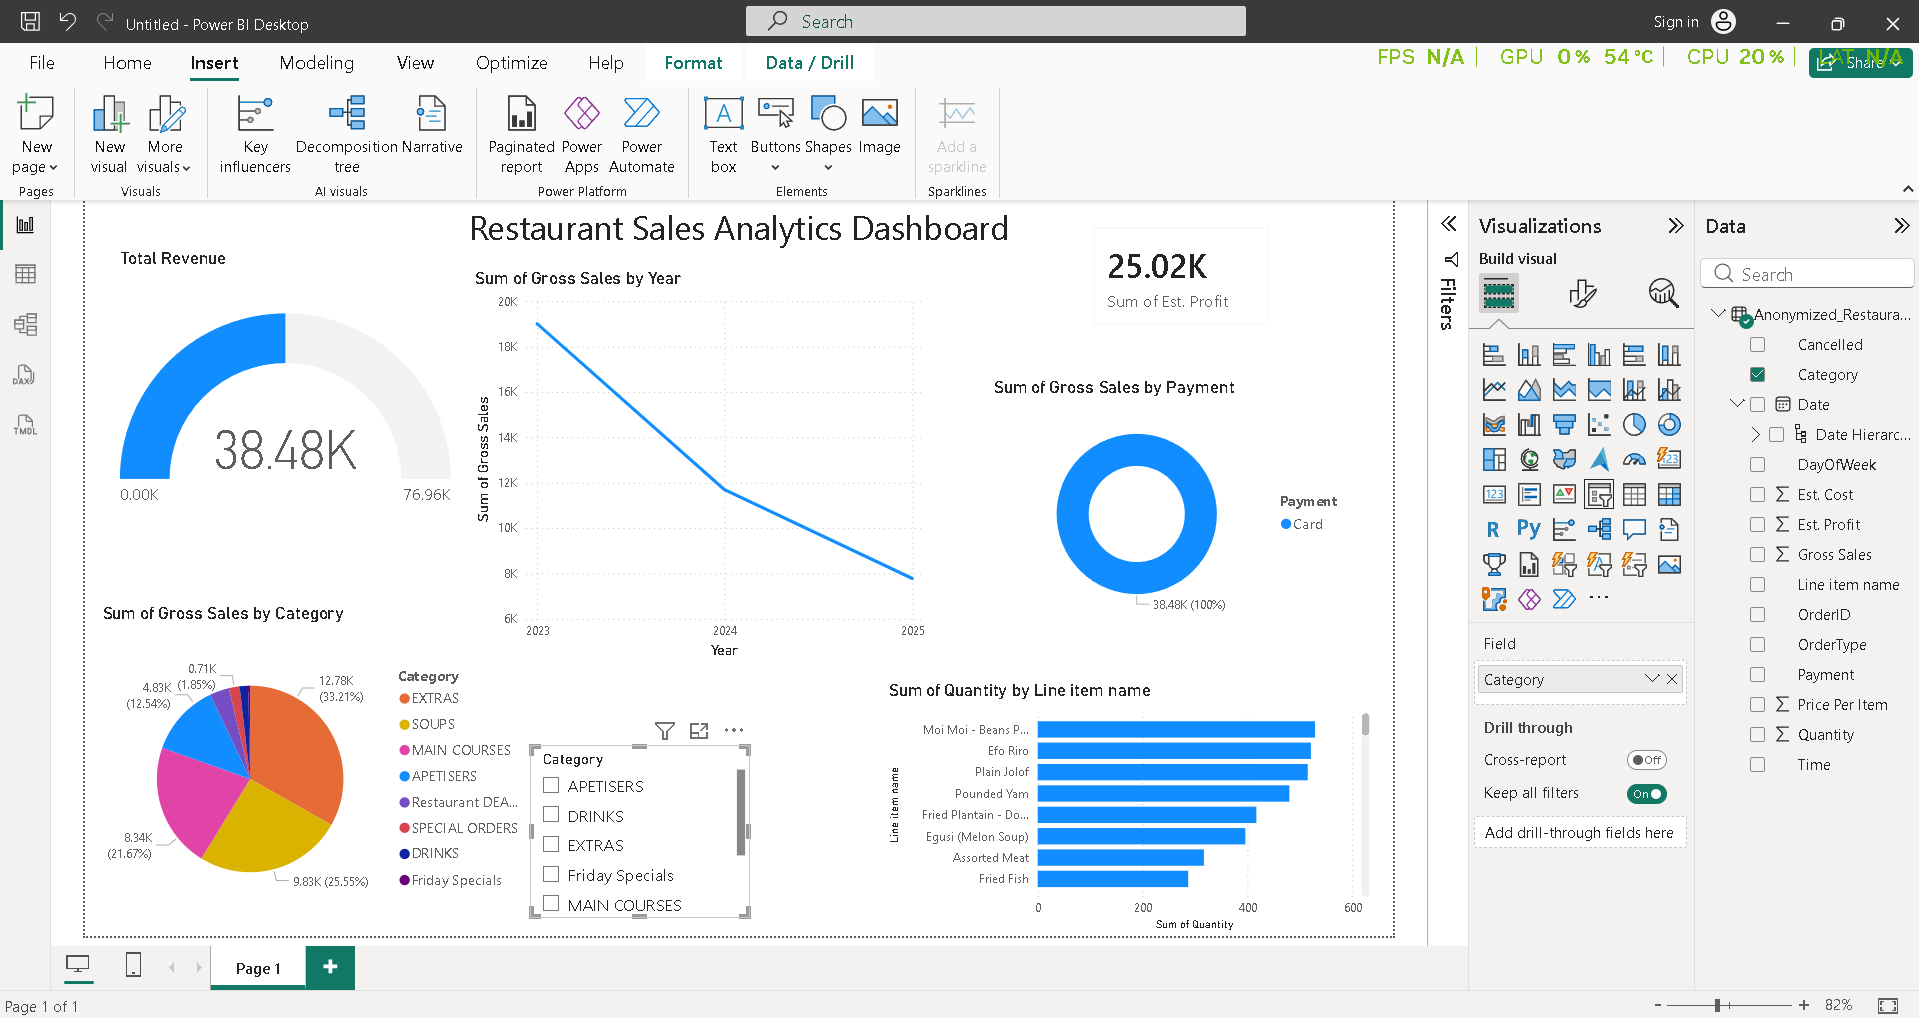

Layout of this report page (visuals, bound fields, positions):
{"tool":"powerbi","page":{"name":"Page 1","canvas":[1280,720],"ordinal":0},"visuals":[{"type":"textbox","box":[363.6,0,553,65.9],"z":0},{"type":"gauge","fields":{"Y":["Sum(Anonymized_Restaurant_Sales_Data.Gross Sales)"]},"box":[29.3,46.5,333.8,304.5],"z":1000},{"type":"cardVisual","fields":{"Data":["Sum(Anonymized_Restaurant_Sales_Data.Est. Profit)"]},"box":[969.7,9.8,206.7,129.6],"z":2000},{"type":"pieChart","fields":{"Category":["Anonymized_Restaurant_Sales_Data.Category"],"Y":["Sum(Anonymized_Restaurant_Sales_Data.Gross Sales)"]},"box":[12.2,393.8,423.1,326.5],"z":3000},{"type":"clusteredBarChart","fields":{"Category":["Anonymized_Restaurant_Sales_Data.Line item name"],"Y":["Sum(Anonymized_Restaurant_Sales_Data.Quantity)"]},"box":[781.4,469.6,480.6,250.7],"z":4000},{"type":"donutChart","fields":{"Category":["Anonymized_Restaurant_Sales_Data.Payment"],"Y":["Sum(Anonymized_Restaurant_Sales_Data.Gross Sales)"]},"box":[884.1,172.4,362,250.7],"z":5000},{"type":"lineChart","fields":{"Category":["Anonymized_Restaurant_Sales_Data.Date.Variation.Date Hierarchy.Year","Anonymized_Restaurant_Sales_Data.Date.Variation.Date Hierarchy.Month"],"Y":["Sum(Anonymized_Restaurant_Sales_Data.Gross Sales)"]},"box":[376.6,66,450,387.6],"z":6000},{"type":"slicer","fields":{"Values":["Anonymized_Restaurant_Sales_Data.Category"]},"box":[435.3,533.2,215.2,168.8],"z":7000}]}

Visuals, with their boxes on the page's 1280x720 design canvas (x1, y1, x2, y2). These are canvas units, not pixel positions in the 1919x1018 screenshot, which may show the page scaled, cropped or inside an application window:
textbox: bbox=[364, 0, 917, 66]
gauge - Sum(Anonymized_Restaurant_Sales_Data.Gross Sales): bbox=[29, 46, 363, 351]
cardVisual - Sum(Anonymized_Restaurant_Sales_Data.Est. Profit): bbox=[970, 10, 1176, 139]
pieChart - Anonymized_Restaurant_Sales_Data.Category x Sum(Anonymized_Restaurant_Sales_Data.Gross Sales): bbox=[12, 394, 435, 720]
clusteredBarChart - Anonymized_Restaurant_Sales_Data.Line item name x Sum(Anonymized_Restaurant_Sales_Data.Quantity): bbox=[781, 470, 1262, 720]
donutChart - Anonymized_Restaurant_Sales_Data.Payment x Sum(Anonymized_Restaurant_Sales_Data.Gross Sales): bbox=[884, 172, 1246, 423]
lineChart - Anonymized_Restaurant_Sales_Data.Date.Variation.Date Hierarchy.Year x Anonymized_Restaurant_Sales_Data.Date.Variation.Date Hierarchy.Month: bbox=[377, 66, 827, 454]
slicer - Anonymized_Restaurant_Sales_Data.Category: bbox=[435, 533, 650, 702]
